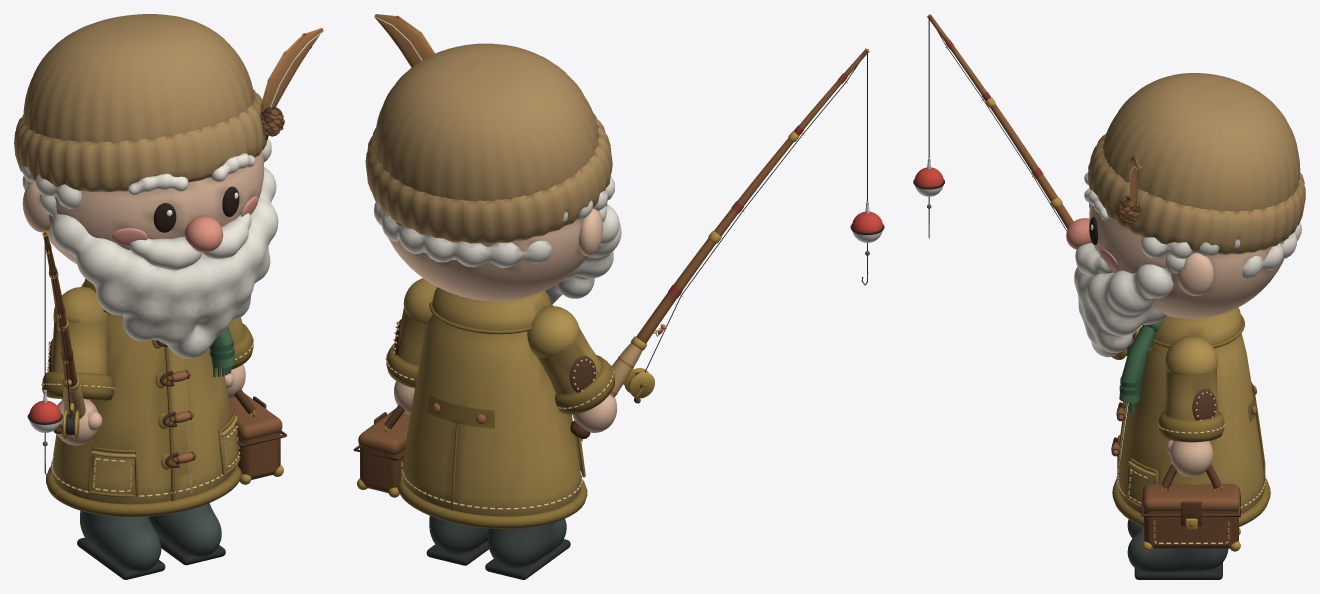
Rendered from fisher.glb.
3 views of the same model, side by side, from view 1: azimuth 30°, elevation 25°; view 2: azimuth 150°, elevation 25°; view 3: azimuth 270°, elevation 25° (orthographic). The views are drawn at different scales.
Visible parts, largest first — view 1: head, body, arm_r, leg_r, rod, tackle_box, leg_l, arm_l; view 2: head, body, rod, arm_r, arm_l, leg_r, tackle_box, leg_l; view 3: head, body, arm_l, tackle_box, rod, leg_l.
Part boxes in pixels (x1=…): head: x1=14, y1=14, x2=324, y2=358; body: x1=46, y1=278, x2=242, y2=516; arm_r: x1=41, y1=287, x2=115, y2=445; leg_r: x1=77, y1=510, x2=165, y2=579; rod: x1=27, y1=231, x2=85, y2=476; tackle_box: x1=229, y1=389, x2=286, y2=484; leg_l: x1=149, y1=503, x2=225, y2=565; arm_l: x1=224, y1=317, x2=253, y2=399; head: x1=365, y1=14, x2=621, y2=304; body: x1=397, y1=287, x2=587, y2=528; rod: x1=570, y1=48, x2=884, y2=439; arm_r: x1=527, y1=306, x2=616, y2=432; arm_l: x1=385, y1=278, x2=437, y2=414; leg_r: x1=485, y1=518, x2=570, y2=579; tackle_box: x1=353, y1=405, x2=410, y2=497; leg_l: x1=426, y1=516, x2=488, y2=565; head: x1=1066, y1=73, x2=1305, y2=357; body: x1=1111, y1=307, x2=1270, y2=526; arm_l: x1=1157, y1=336, x2=1225, y2=476; tackle_box: x1=1141, y1=464, x2=1240, y2=551; rod: x1=913, y1=14, x2=1140, y2=359; leg_l: x1=1127, y1=531, x2=1228, y2=579.
Bounding box in the file's own units: 1.22 × 1.47 × 1.11.
